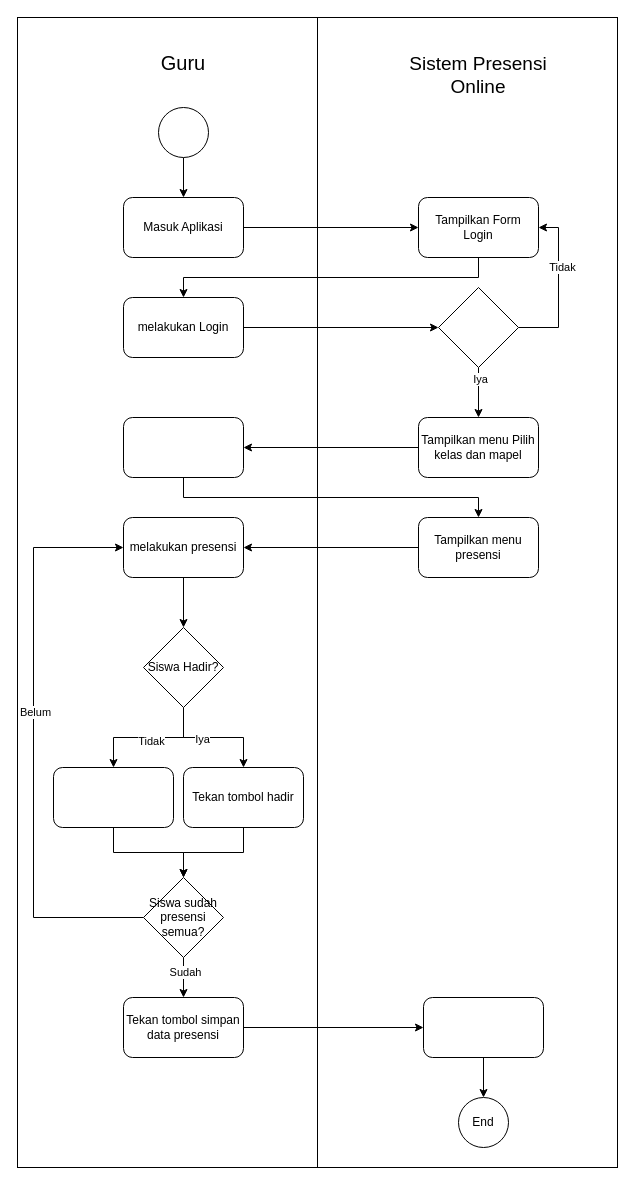
Image size: 635x1186. Some labels were removed from this diagram. The shapes that lost their labels are listed below. From the top down, each one's centre as x and y in pixels, then its label:
At pixel 183 132: "Start".
At pixel 478 327: "Benar".
At pixel 183 447: "Guru pilih kelas dan mapel".
At pixel 113 797: "Pilih alasan tidak hadir".
At pixel 483 1027: "Simpan data presensi".
